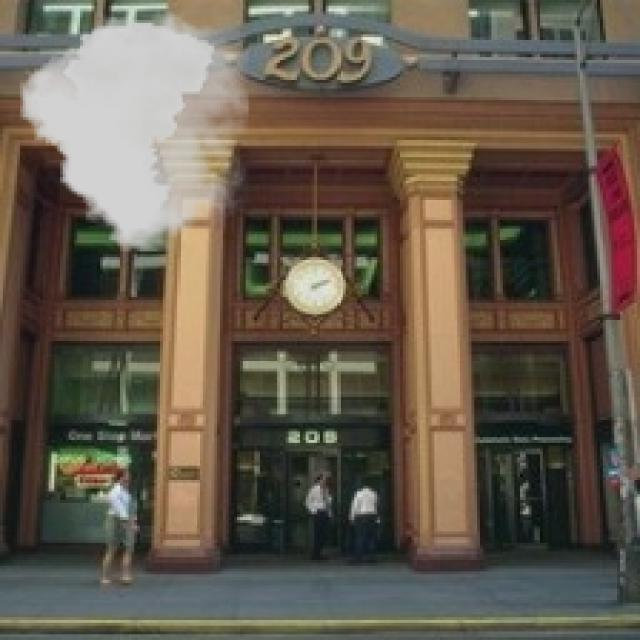Smoke: (20, 12, 249, 252)
